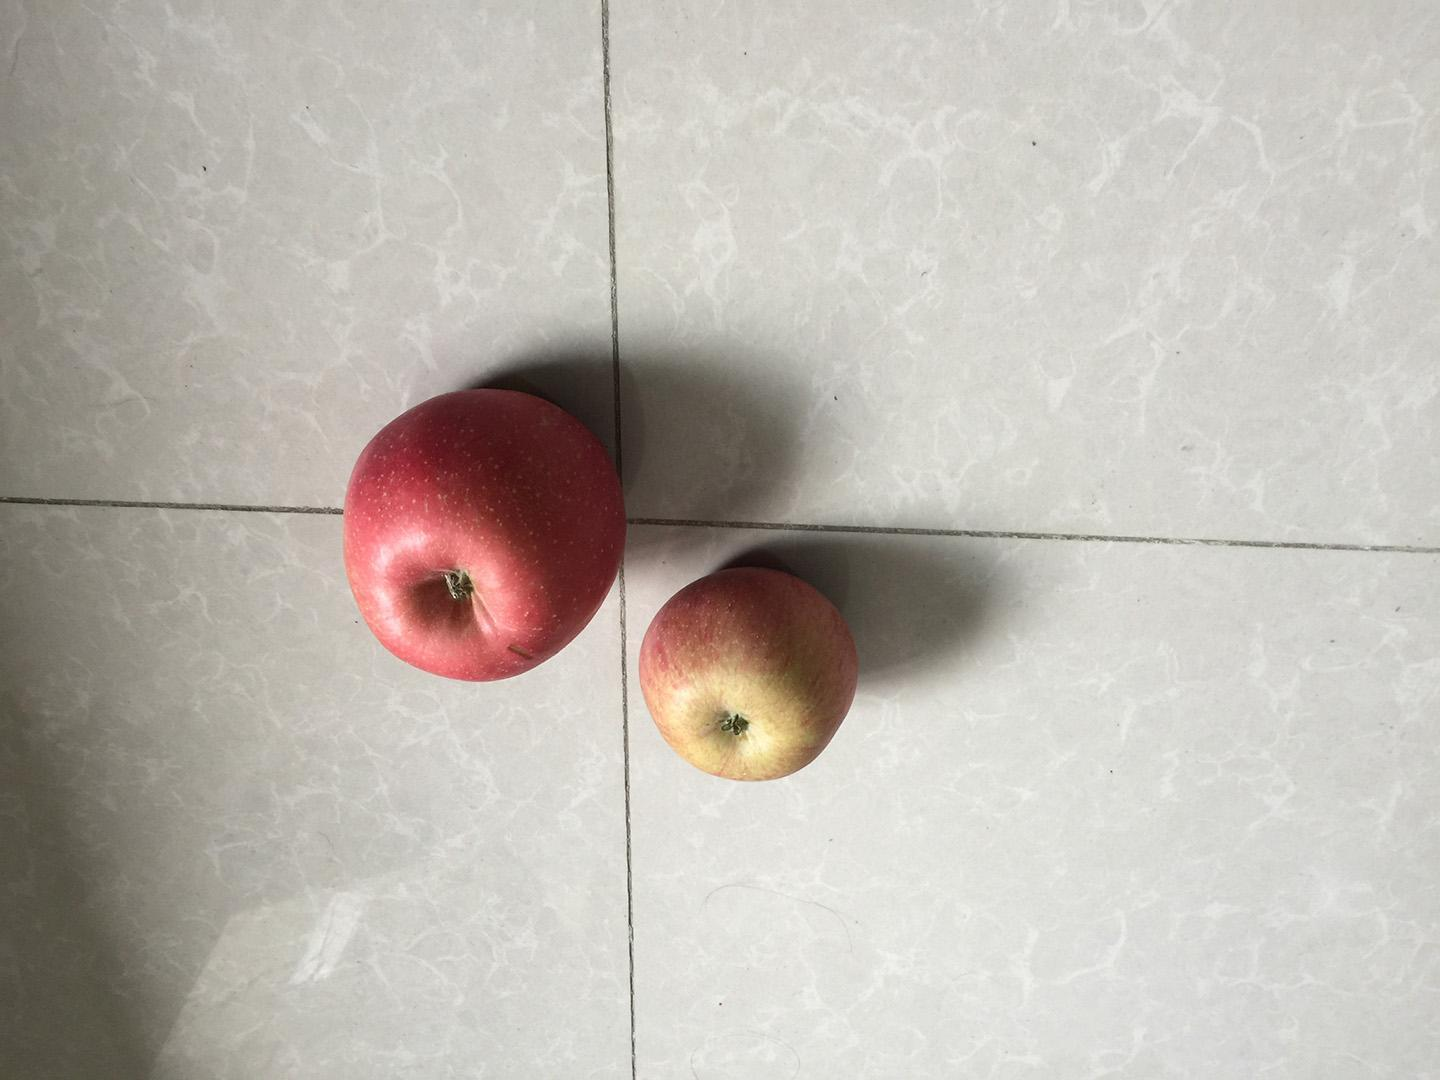apple: (337, 379, 633, 690), (633, 548, 865, 790)
